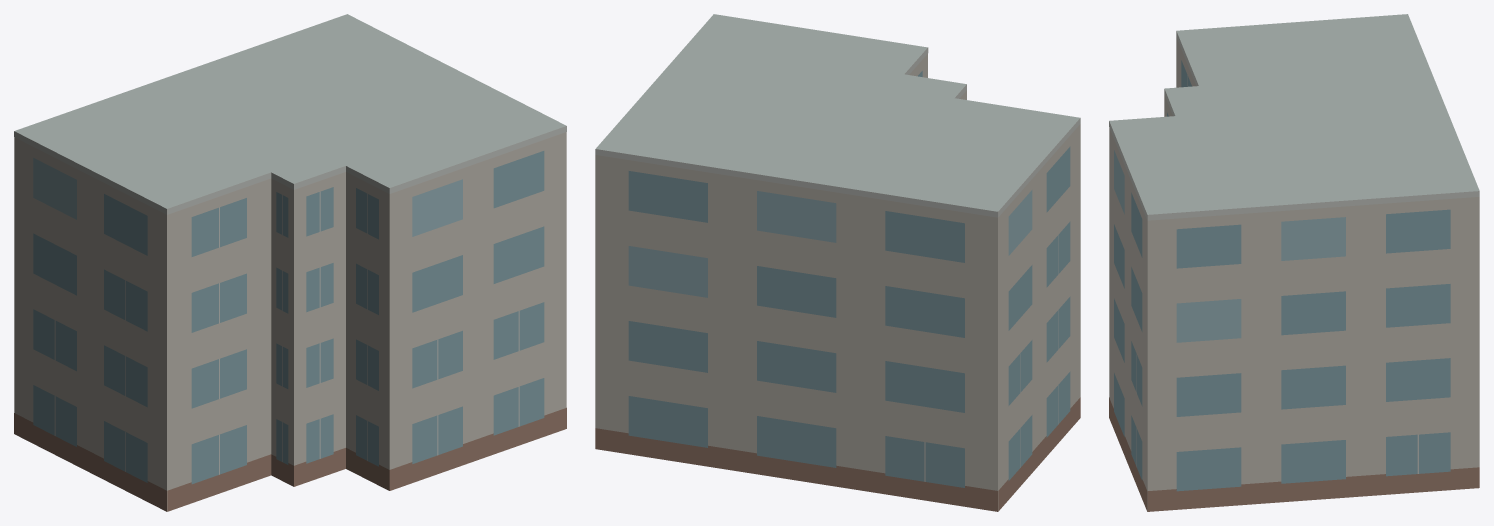
Rendered from survey-upis-32743901.glb.
The picture shows the model from 3 angles, left to right: view 1: azimuth 30°, elevation 25°; view 2: azimuth 150°, elevation 25°; view 3: azimuth 270°, elevation 25°; orthographic projection.
Visible parts, largest first — view 1: survey-upis-32743901.tmp; view 2: survey-upis-32743901.tmp; view 3: survey-upis-32743901.tmp.
Part boxes in pixels (box(x1,y1,x2,y2)): survey-upis-32743901.tmp: box(14, 14, 566, 511); survey-upis-32743901.tmp: box(595, 14, 1080, 511); survey-upis-32743901.tmp: box(1109, 14, 1479, 511).
Size of the model in its own units: 18 by 12.4 by 14.03.
